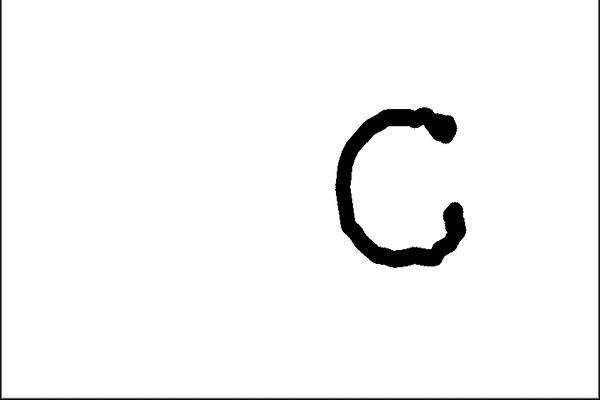C: (329, 101, 469, 273)
